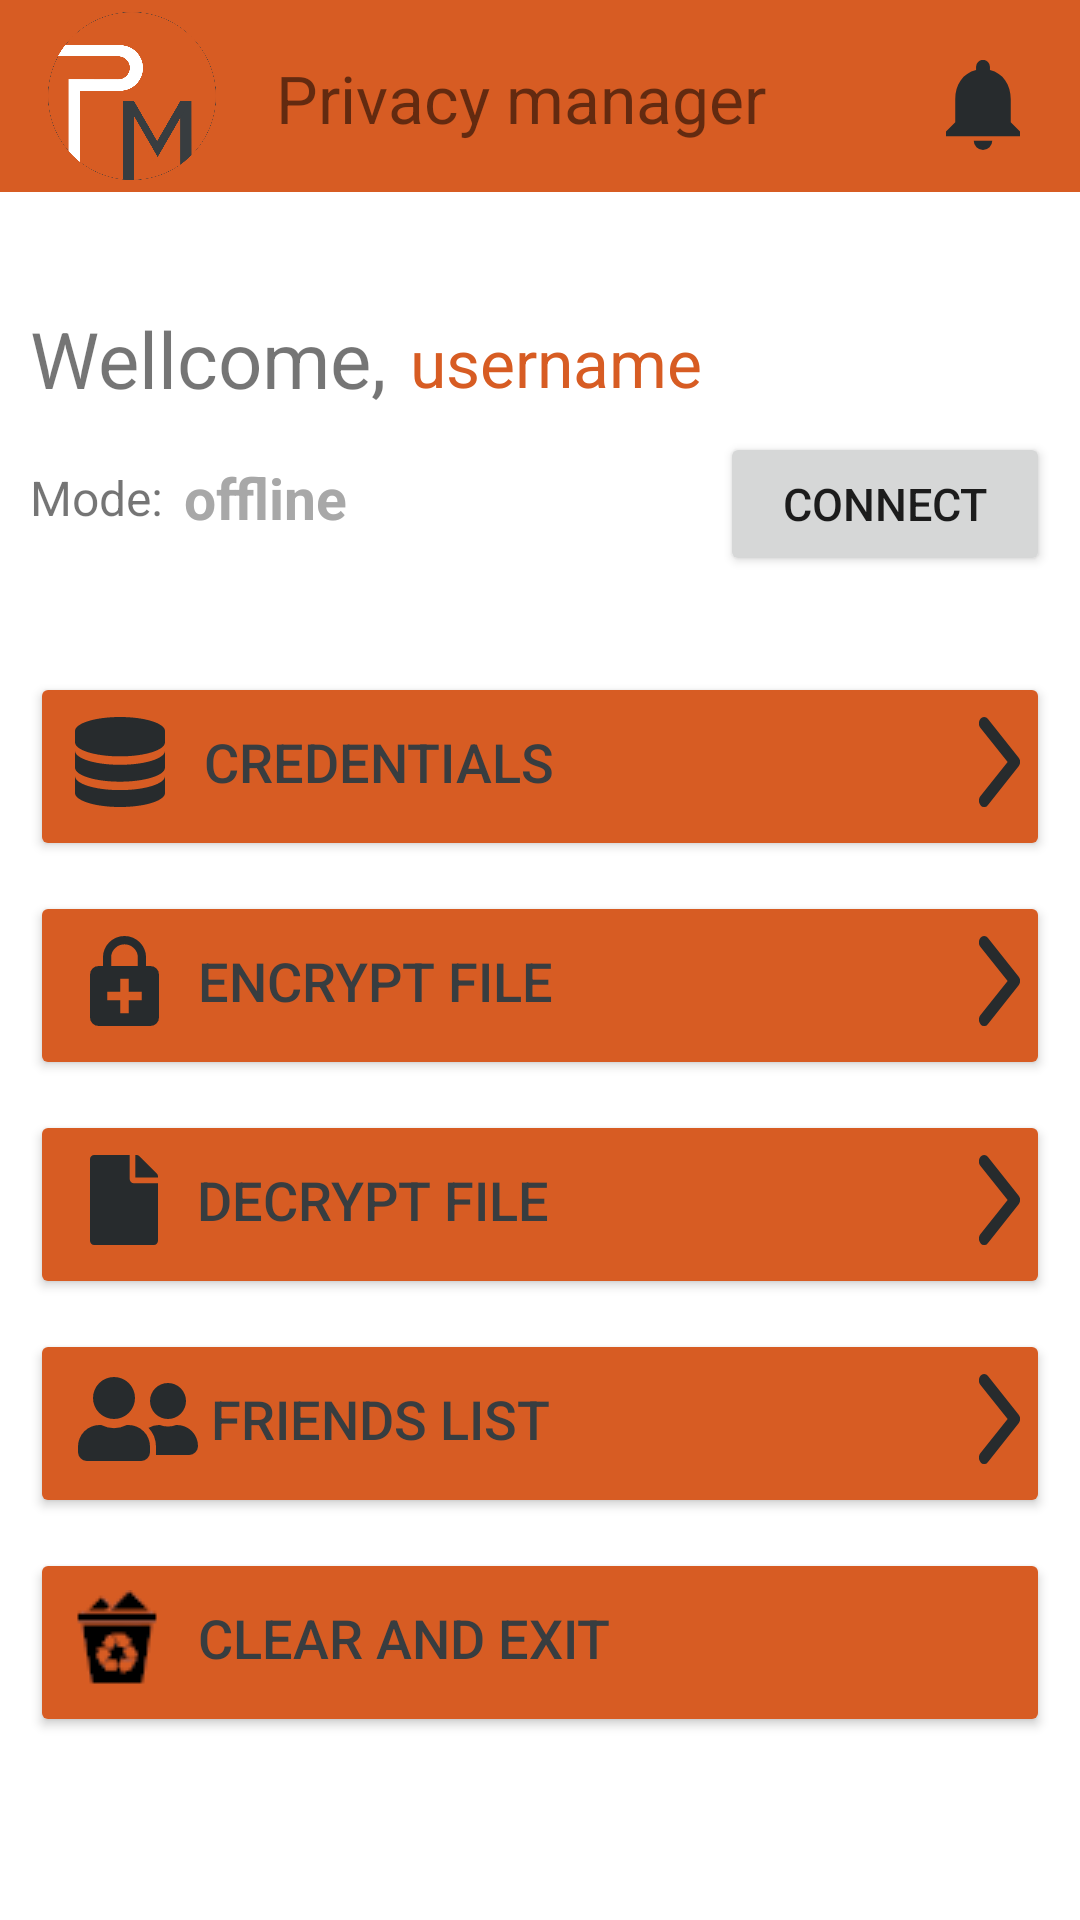

Locate icon controls on the screen. Image size 1080×1920, boxes as (left=x1, top=y1, right=x2, bottom=y2).
notifications: (left=946, top=60, right=1020, bottom=150)
